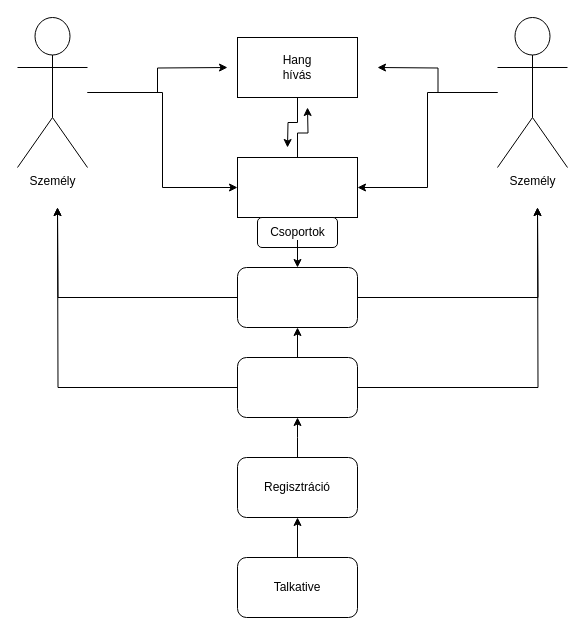
The diagram is 585 pixels wide and 635 high, and some of its shapes have lost their labels. The shapes that lost their labels are listed below. From the top down, each one's centre as x and y in pixels, then its label:
At point 297,187: "Szöveges beszélgetés".
At point 297,297: "Barát/Csoport kereső".
At point 297,387: "Profil létrehozása".
